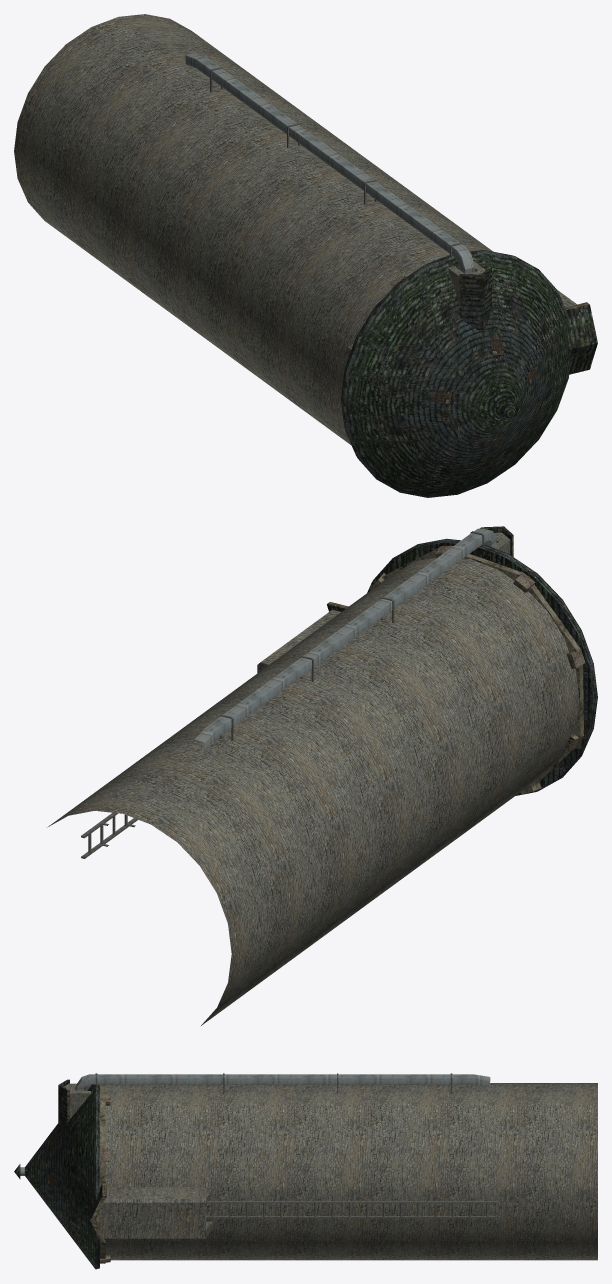
File: silo01.glb
3 renders of one model, top to bottom at view 1: azimuth 30°, elevation 25°; view 2: azimuth 150°, elevation 25°; view 3: azimuth 270°, elevation 25°, orthographic. The views are drawn at different scales.
Bounding box in the file's own units: 330 × 313 × 895.
Materials: 6 (6 with a texture image).
